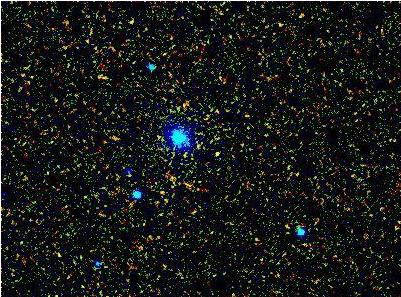star: (203, 140, 233, 170)
